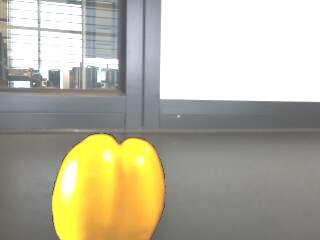Capsicum: (49, 133, 166, 240)
